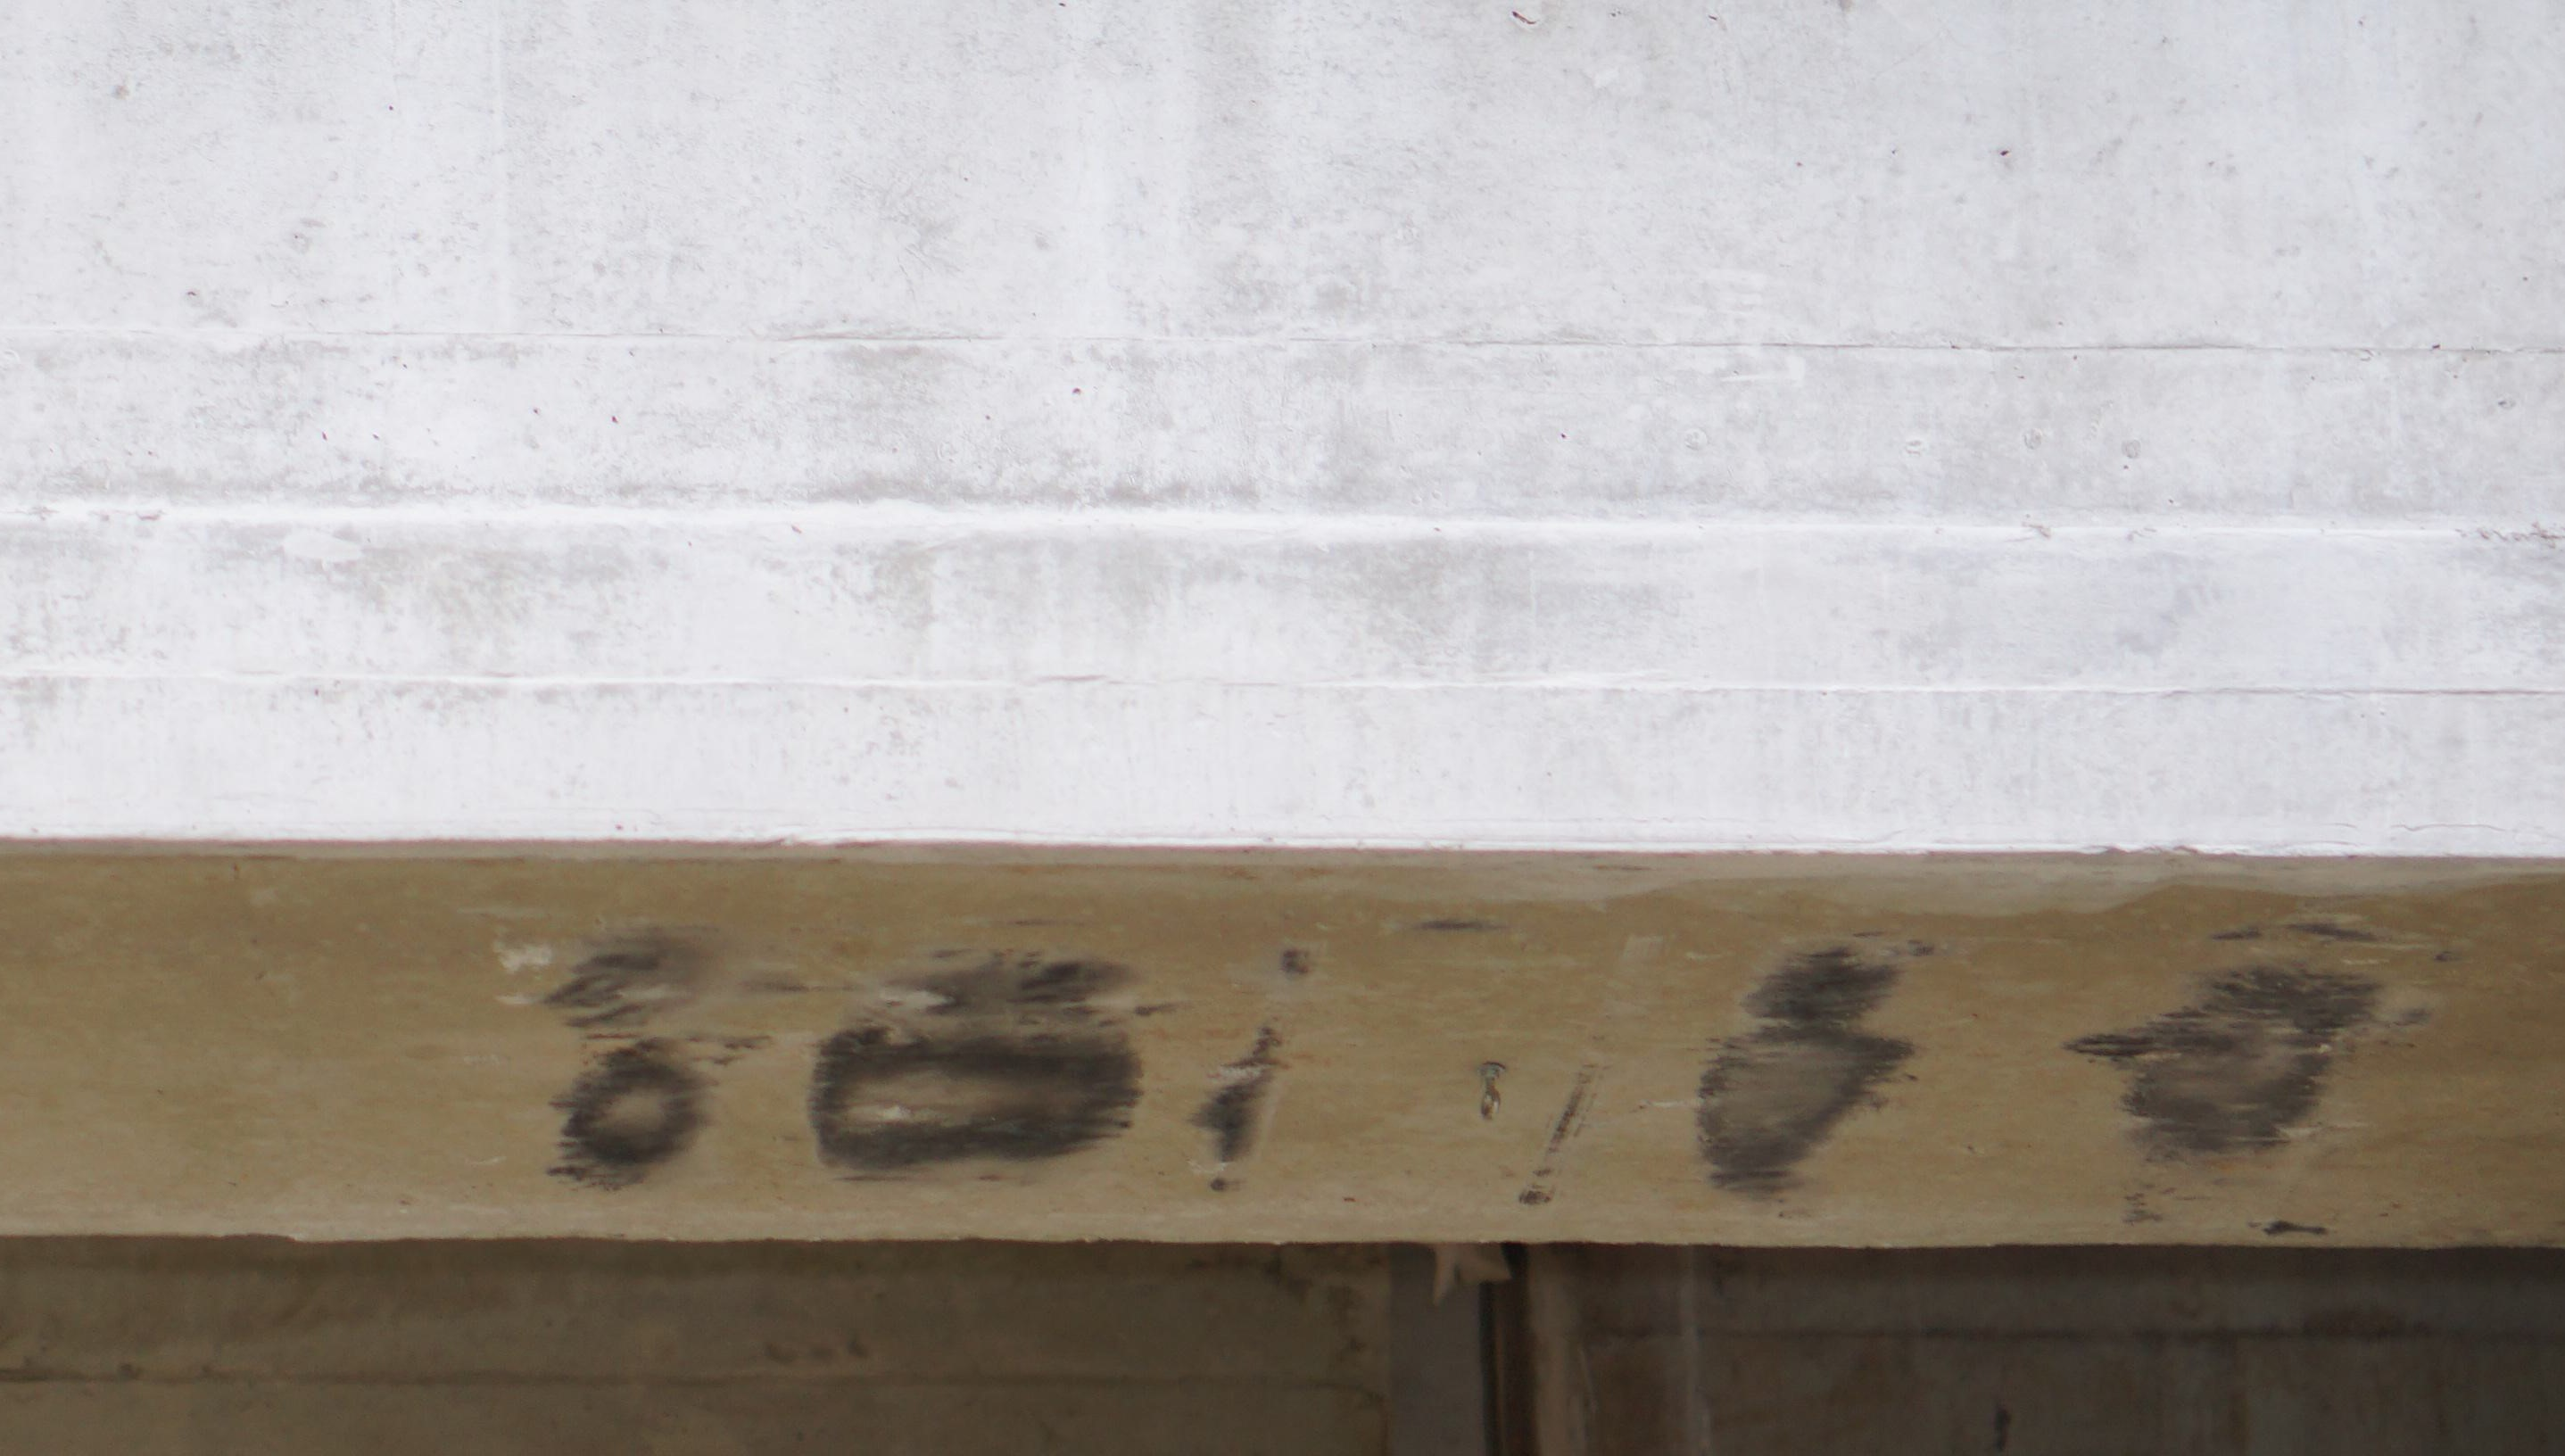Corrosion: (805, 958, 1145, 1181), (1695, 930, 1936, 1202), (2059, 965, 2384, 1166), (537, 931, 712, 1190), (1186, 1025, 1288, 1162), (2211, 923, 2377, 942), (1480, 1062, 1506, 1120), (1279, 949, 1312, 974), (1210, 1178, 1230, 1194)
Exposed reinforcement: (1517, 1063, 1601, 1206), (1422, 916, 1492, 931)
